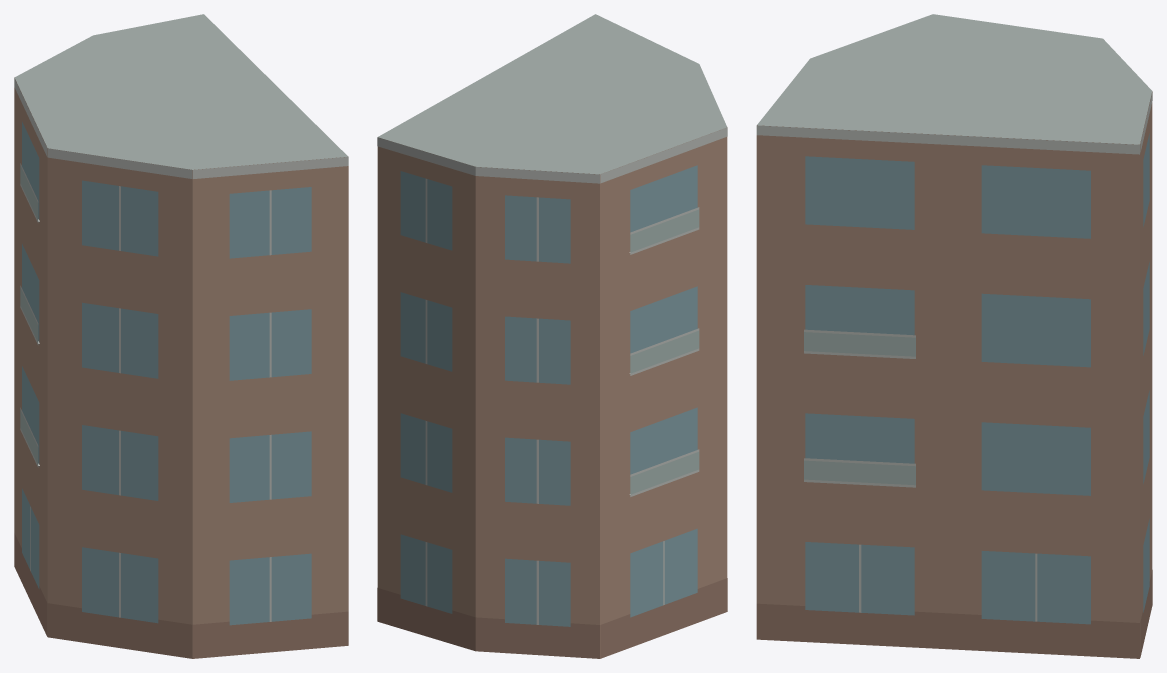
File: survey-upis-32474692.glb
The picture shows the model from 3 angles, left to right: view 1: azimuth 30°, elevation 25°; view 2: azimuth 150°, elevation 25°; view 3: azimuth 270°, elevation 25°; orthographic projection. The views are drawn at different scales.
Parts seen in each view (by area): view 1: survey-upis-32474692.tmp; view 2: survey-upis-32474692.tmp; view 3: survey-upis-32474692.tmp.
Boxes of the visible parts, <box> form: survey-upis-32474692.tmp: <box>14,14,348,658</box>; survey-upis-32474692.tmp: <box>377,14,727,658</box>; survey-upis-32474692.tmp: <box>756,14,1152,658</box>.
Bounding box in the file's own units: 6.99 × 12.8 × 8.94.
